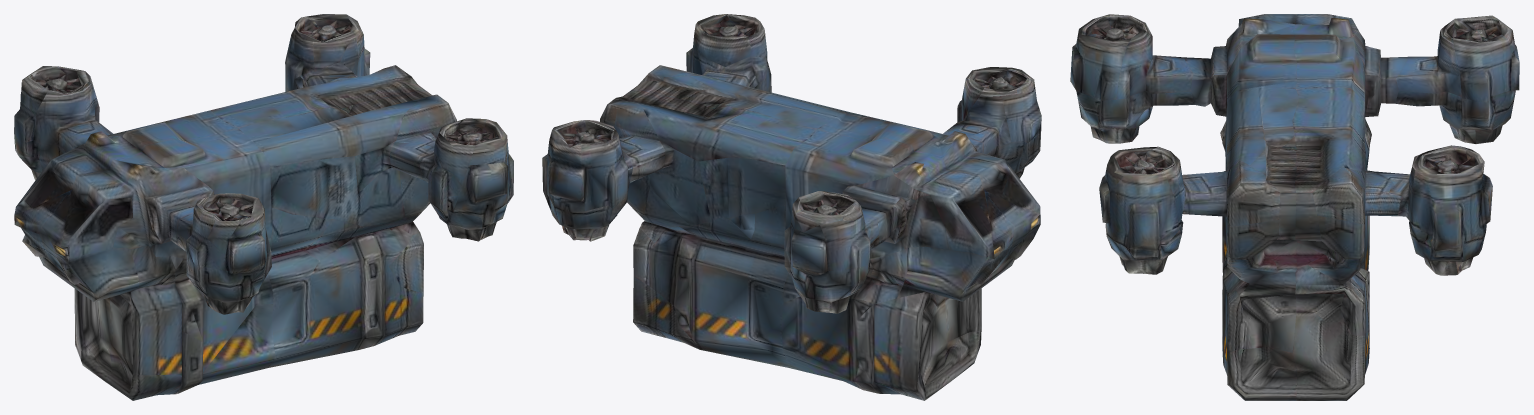
File: transport.glb
3 renders of one model, left to right at view 1: azimuth 30°, elevation 25°; view 2: azimuth 150°, elevation 25°; view 3: azimuth 270°, elevation 25°, orthographic. The views are drawn at different scales.
Visible parts, largest first — view 1: human-transport; view 2: human-transport; view 3: human-transport.
Part boxes in pixels (bbox=[...]): human-transport: bbox=[14, 14, 513, 400]; human-transport: bbox=[542, 14, 1041, 400]; human-transport: bbox=[1070, 14, 1519, 400].
Size of the model in its own units: 2.7 by 1.52 by 2.5.
Materials: 1 (1 with a texture image).
